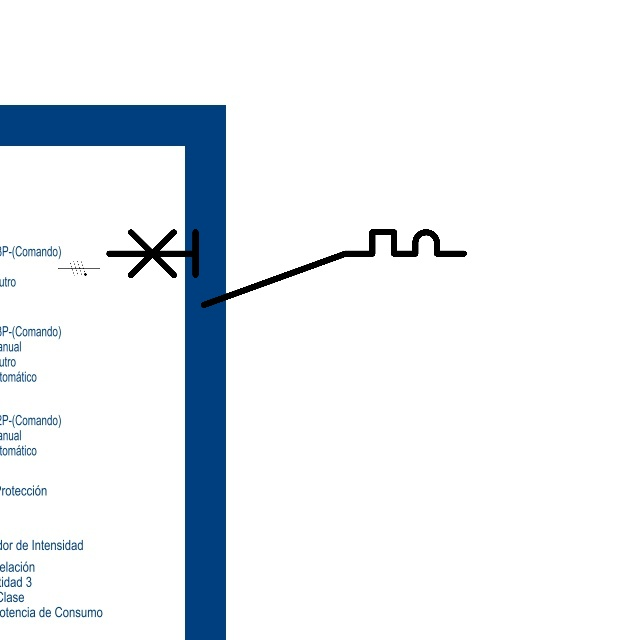interruptor_termomagnetico: (100, 223, 473, 314)
